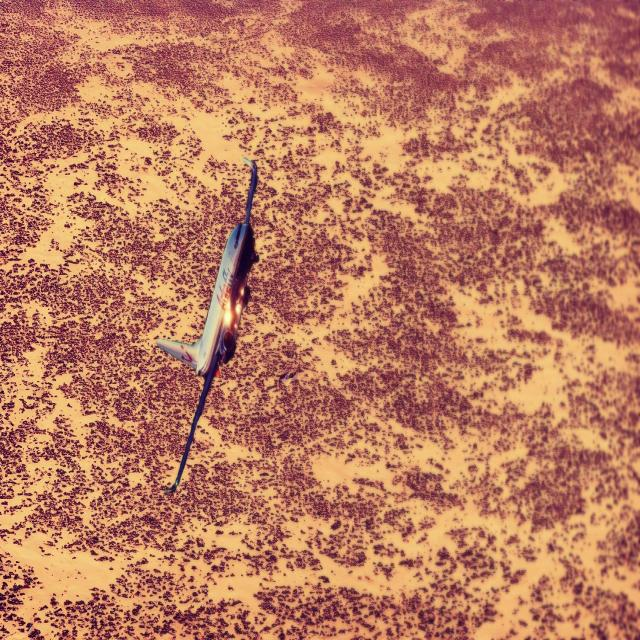airplane: (154, 155, 258, 492)
